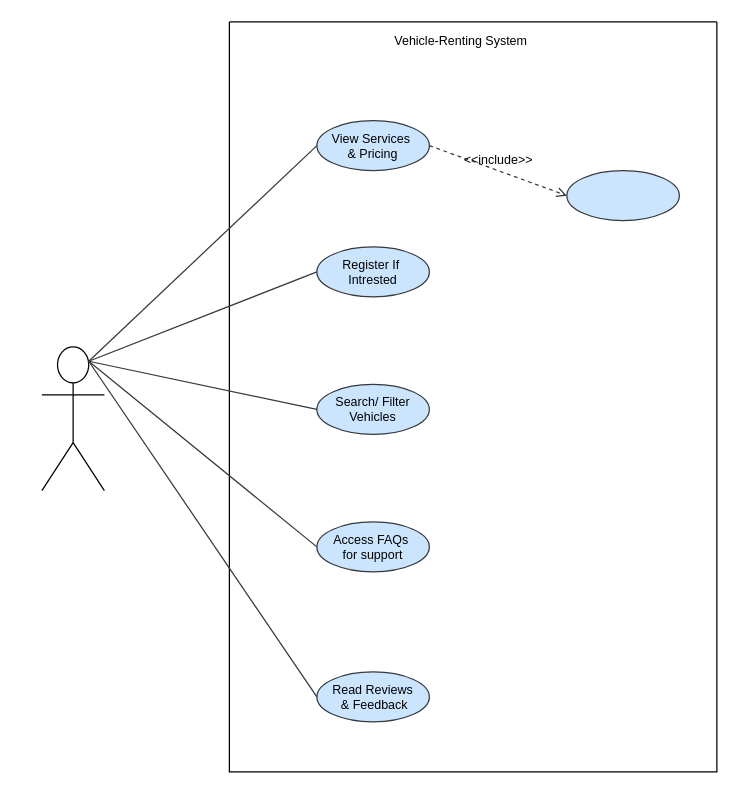
The diagram is 739 pixels wide and 794 high, and some of its shapes have lost their labels. The centre of each missing label's shape, as x and y in pixels:
Unregisterd Visitor: [72,418]
View Terms And Conditions: [622,195]
